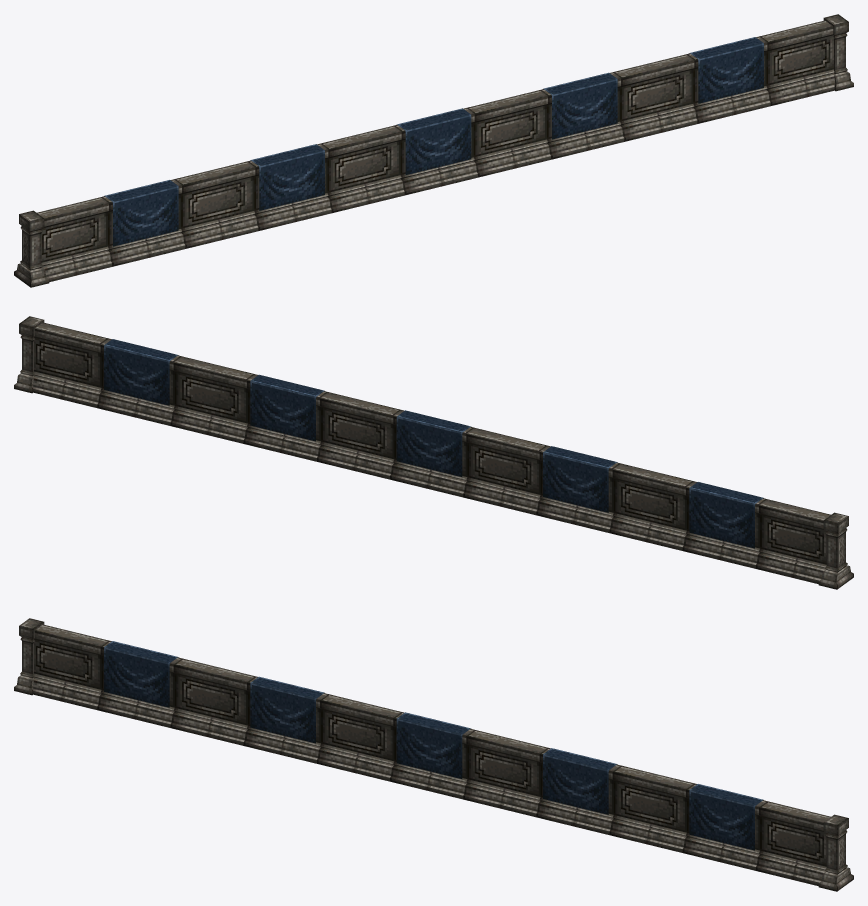
File: EnvBdgMD_Courthouse_A_Indoor_Fence_B.FBX
The picture shows the model from 3 angles, top to bottom: view 1: azimuth 30°, elevation 25°; view 2: azimuth 150°, elevation 25°; view 3: azimuth 330°, elevation 25°; orthographic projection.
Visible parts, largest first — view 1: EnvBdgMD_Courthouse_A_Indoor_Fence_B; view 2: EnvBdgMD_Courthouse_A_Indoor_Fence_B; view 3: EnvBdgMD_Courthouse_A_Indoor_Fence_B.
Boxes of the visible parts, left/top/right/bottom form: EnvBdgMD_Courthouse_A_Indoor_Fence_B: left=14, top=14, right=853, bottom=287; EnvBdgMD_Courthouse_A_Indoor_Fence_B: left=14, top=316, right=853, bottom=589; EnvBdgMD_Courthouse_A_Indoor_Fence_B: left=14, top=618, right=853, bottom=891.
Size of the model in its own units: 2250 by 165 by 80.
